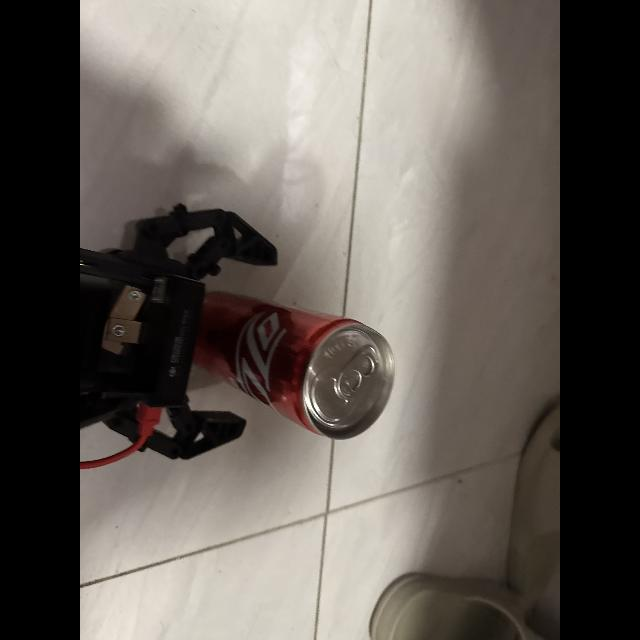Cola: (196, 276, 406, 458)
